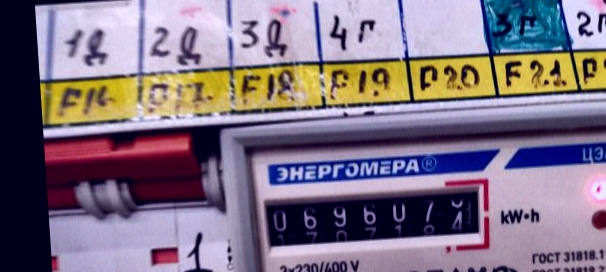0: (269, 207, 287, 232), (388, 197, 405, 223)
4: (446, 208, 464, 233)
6: (358, 200, 377, 225), (299, 205, 317, 230)
7: (418, 197, 435, 224)
9: (329, 203, 346, 228)
screen: (248, 171, 495, 261)
